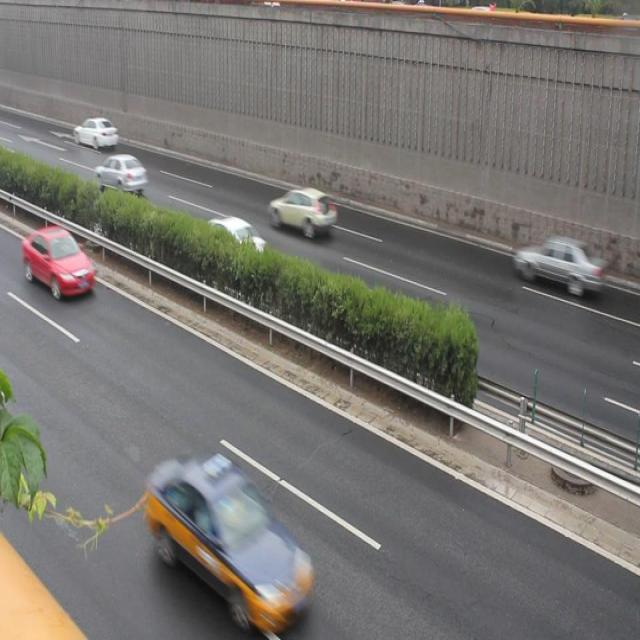car: (151, 459, 309, 611), (513, 234, 600, 296), (23, 226, 94, 296), (193, 215, 266, 272), (268, 185, 337, 240), (95, 152, 148, 196), (74, 117, 119, 151)
